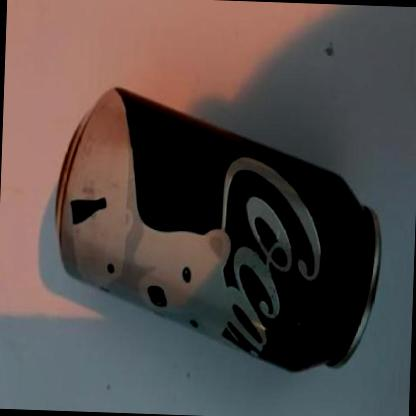alumunium_can: (48, 82, 389, 380)
